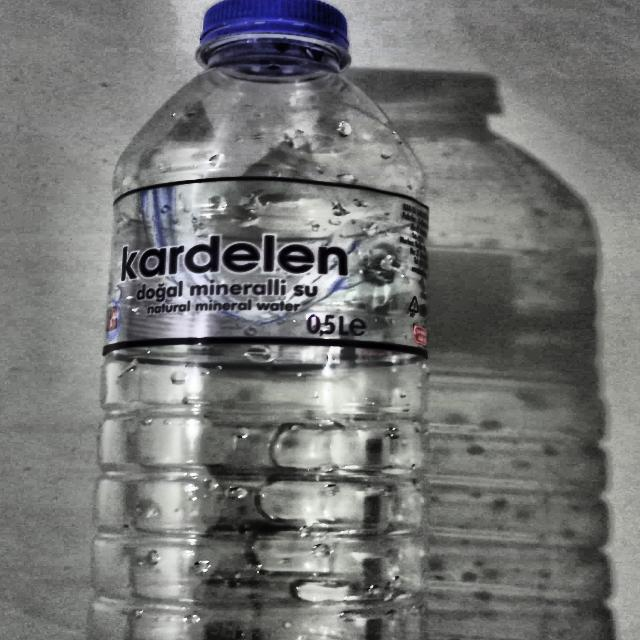plastic: (89, 0, 430, 640)
